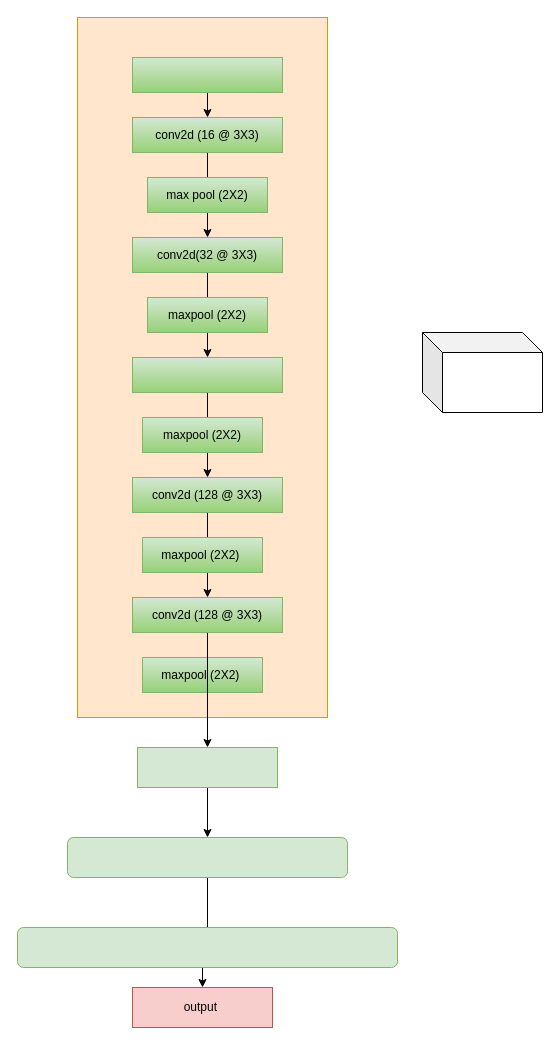
Some shapes in this 560 by 1045 pixel diagram are drawn without their labels. Here are the shapes that lost their labels. From the top down, the centre of each, then its label:
At point (207, 74): "input(300X300X3)".
At point (207, 374): "conv2d (64 @ 3X3)".
At point (207, 767): "flatten".
At point (207, 857): "DENSE ( 256 )".
At point (207, 947): "DENSE (512)".
